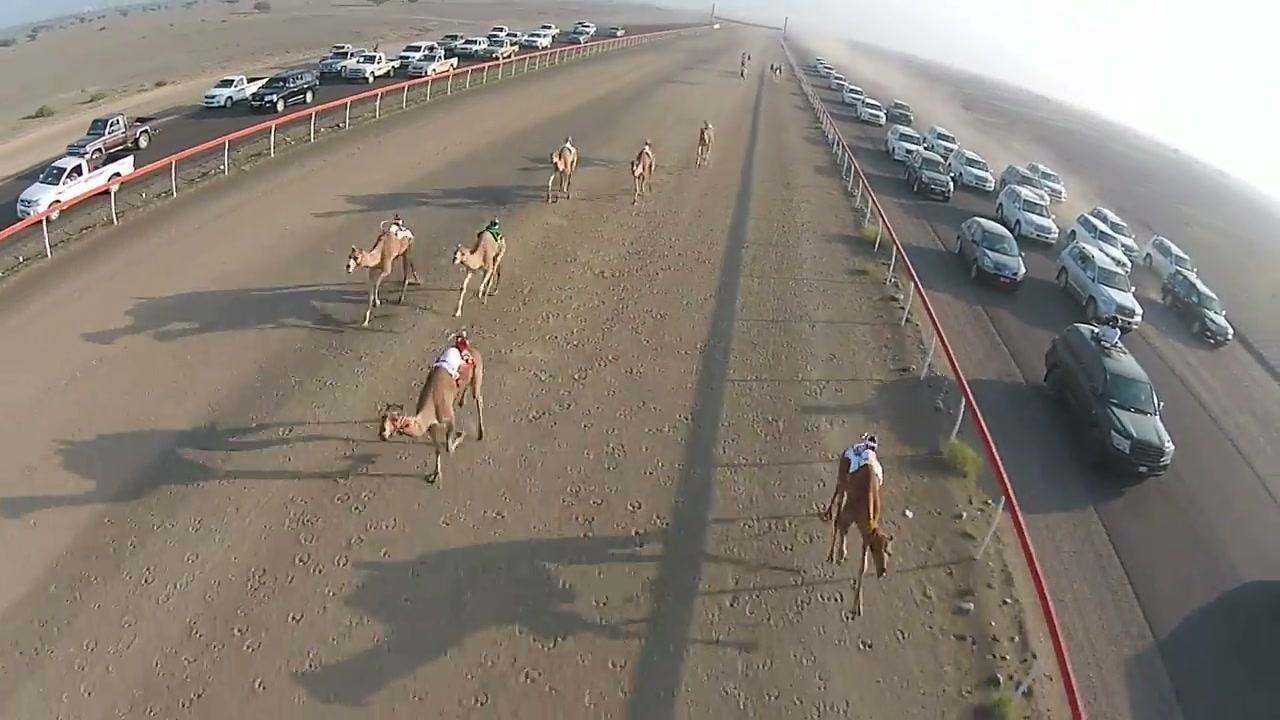animal_foot_print: (113, 458, 408, 711), (529, 214, 659, 544)
